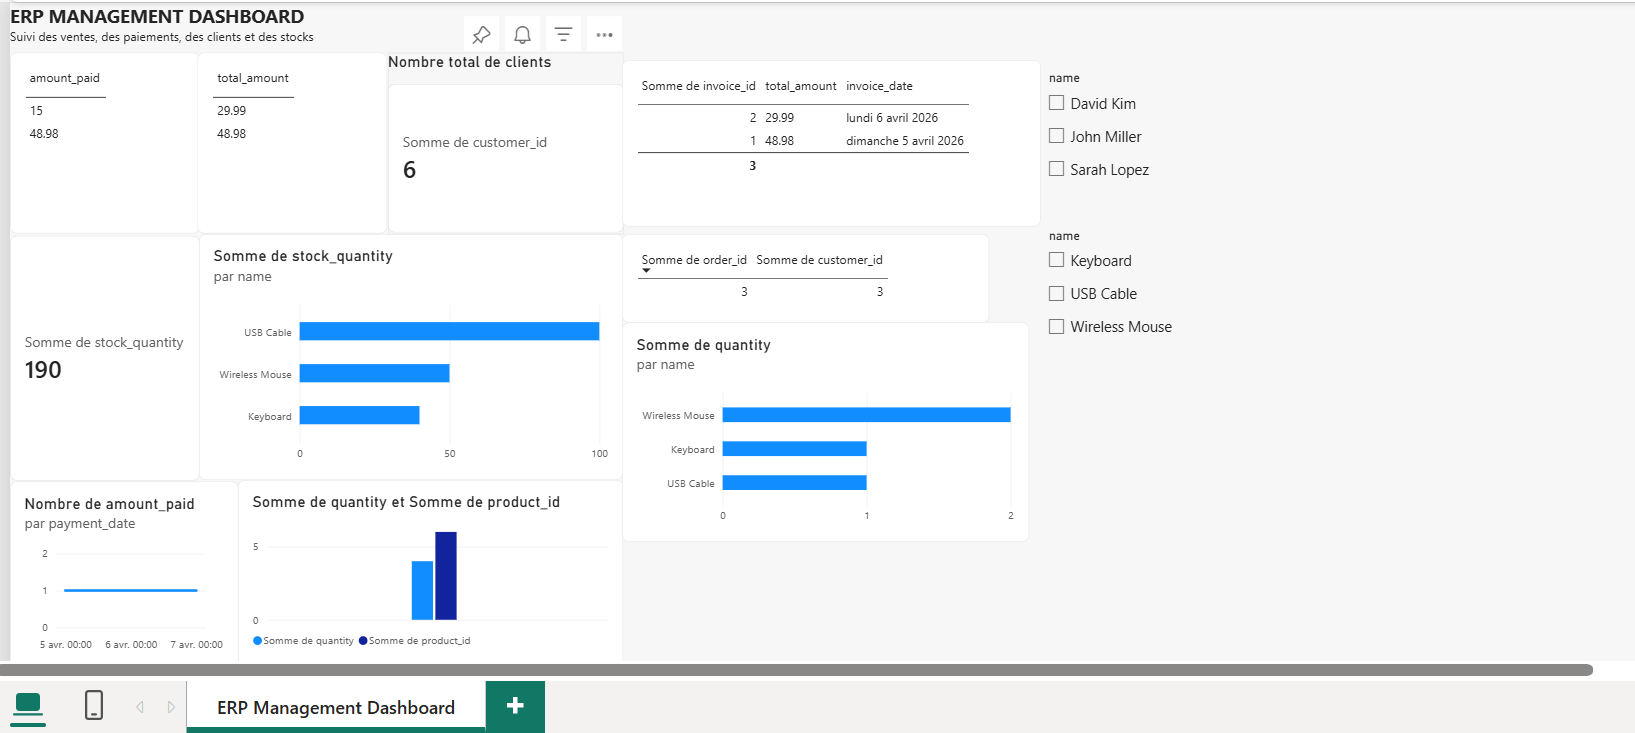

This screenshot's page, from the dashboard's own definition file:
{"tool":"powerbi","page":{"name":"ERP Management Dashboard","canvas":[1920,1080],"ordinal":0},"visuals":[{"type":"tableEx","fields":{"Values":["Payments.amount_paid"]},"box":[0,57.5,218,208],"z":0},{"type":"tableEx","fields":{"Values":["Invoices.total_amount"]},"box":[216.2,57.5,218,208],"z":1000},{"type":"cardVisual","fields":{"Data":["Sum(Products.stock_quantity)"]},"box":[-0.6,266.7,218,282],"z":2000},{"type":"barChart","fields":{"Category":["Products.name"],"Y":["Sum(Products.stock_quantity)"]},"box":[217.5,266.2,487.5,282.5],"z":3000},{"type":"lineChart","fields":{"Category":["Payments.payment_date"],"Y":["CountNonNull(Payments.amount_paid)"]},"box":[-0.6,549.2,262.5,215],"z":4000},{"type":"clusteredColumnChart","fields":{"Y":["Sum(Order_Items.quantity)","Sum(Order_Items.product_id)"]},"box":[262.5,548.8,442.5,215],"z":5000},{"type":"cardVisual","title":"Nombre total de clients","fields":{"Data":["Sum(Customers 1.customer_id)"]},"box":[433.8,57.5,271.2,207.5],"z":6000},{"type":"textbox","box":[0,218,218,196],"z":7000},{"type":"textbox","box":[0,0,411.2,113.8],"z":8000},{"type":"tableEx","fields":{"Values":["Sum(Invoices.invoice_id)","Invoices.total_amount","Invoices.invoice_date"]},"box":[704,66,481.4,191.4],"z":9000},{"type":"tableEx","fields":{"Values":["Sum(Orders.order_id)","Sum(Orders.customer_id)"]},"box":[704,266,422,102],"z":10000},{"type":"slicer","fields":{"Values":["Customers 1.name"]},"box":[1186,78,422.9,180],"z":11000},{"type":"slicer","fields":{"Values":["Products.name"]},"box":[1186,258,380.5,150],"z":12000},{"type":"barChart","fields":{"Category":["Products.name"],"Y":["Sum(Order_Items.quantity)"]},"box":[704,368,468,252],"z":13000}]}

Visuals, with their boxes on the page's 1920x1080 design canvas (x1, y1, x2, y2). These are canvas units, not pixel positions in the 1635x733 screenshot, which may show the page scaled, cropped or inside an application window:
tableEx - Payments.amount_paid: pyautogui.locateOnScreen(0, 58, 218, 266)
tableEx - Invoices.total_amount: pyautogui.locateOnScreen(216, 58, 434, 266)
cardVisual - Sum(Products.stock_quantity): pyautogui.locateOnScreen(-1, 267, 217, 549)
barChart - Products.name x Sum(Products.stock_quantity): pyautogui.locateOnScreen(218, 266, 705, 549)
lineChart - Payments.payment_date x CountNonNull(Payments.amount_paid): pyautogui.locateOnScreen(-1, 549, 262, 764)
clusteredColumnChart - Sum(Order_Items.quantity) x Sum(Order_Items.product_id): pyautogui.locateOnScreen(262, 549, 705, 764)
"Nombre total de clients" cardVisual: pyautogui.locateOnScreen(434, 58, 705, 265)
textbox: pyautogui.locateOnScreen(0, 218, 218, 414)
textbox: pyautogui.locateOnScreen(0, 0, 411, 114)
tableEx - Sum(Invoices.invoice_id) x Invoices.total_amount: pyautogui.locateOnScreen(704, 66, 1185, 257)
tableEx - Sum(Orders.order_id) x Sum(Orders.customer_id): pyautogui.locateOnScreen(704, 266, 1126, 368)
slicer - Customers 1.name: pyautogui.locateOnScreen(1186, 78, 1609, 258)
slicer - Products.name: pyautogui.locateOnScreen(1186, 258, 1566, 408)
barChart - Products.name x Sum(Order_Items.quantity): pyautogui.locateOnScreen(704, 368, 1172, 620)
